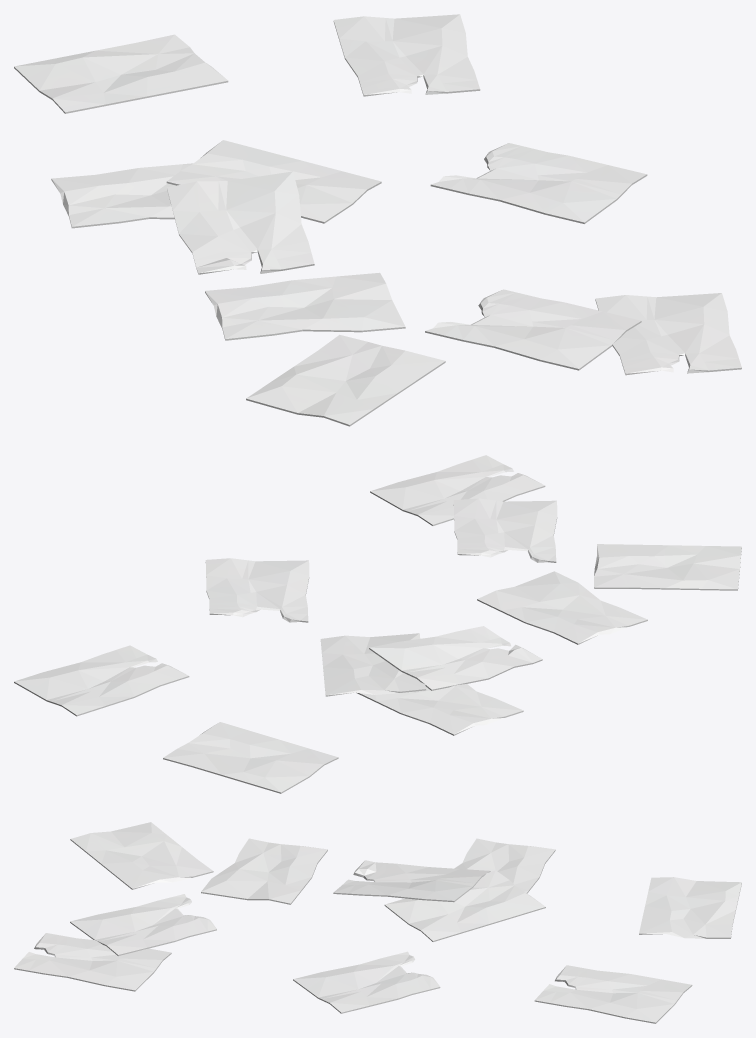
Rendered from paper_trash_cluster_1.obj.
3 views of the same model, one above another, from view 1: azimuth 30°, elevation 25°; view 2: azimuth 150°, elevation 25°; view 3: azimuth 270°, elevation 25° (orthographic). The views are drawn at different scales.
Visible parts, largest first — view 1: paper_trash_cluster_1_Material; view 2: paper_trash_cluster_1_Material; view 3: paper_trash_cluster_1_Material.
Part boxes in pixels (x1,y1,x2,y2): paper_trash_cluster_1_Material: (14, 14, 741, 426); paper_trash_cluster_1_Material: (14, 455, 741, 793); paper_trash_cluster_1_Material: (14, 822, 741, 1023).
Bounding box in the file's own units: 0.7716 × 0.0334 × 1.18.
